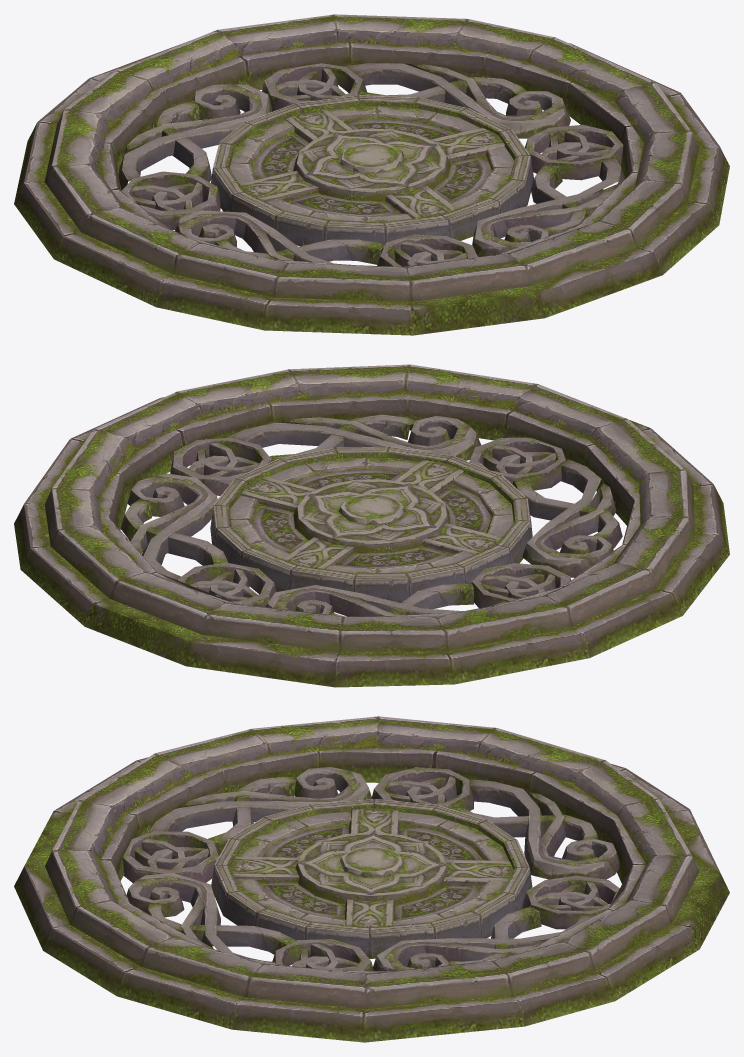
File: 1004_Item_taizi_1.FBX
The picture shows the model from 3 angles, top to bottom: view 1: azimuth 30°, elevation 25°; view 2: azimuth 150°, elevation 25°; view 3: azimuth 270°, elevation 25°; orthographic projection.
Parts seen in each view (by area): view 1: 1004_Item_taizi_1; view 2: 1004_Item_taizi_1; view 3: 1004_Item_taizi_1.
Part boxes in pixels (x1,y1,x2,y2): 1004_Item_taizi_1: [14, 14, 729, 335]; 1004_Item_taizi_1: [14, 364, 729, 687]; 1004_Item_taizi_1: [14, 716, 729, 1042].
Size of the model in its own units: 1287 by 1272 by 75.9.
